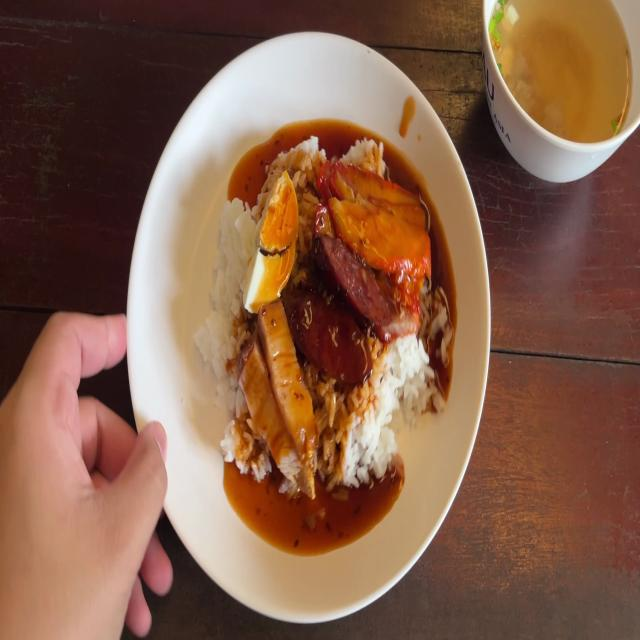01boiled_egg: (246, 180, 294, 308)
01chainese_sausage: (289, 230, 383, 378)
01crispy_pork: (244, 309, 310, 478)
01red_pork: (318, 158, 432, 274)
01red_pork_and_crispy_pork: (198, 141, 432, 491)
01rice: (331, 345, 422, 470), (202, 200, 255, 391)
